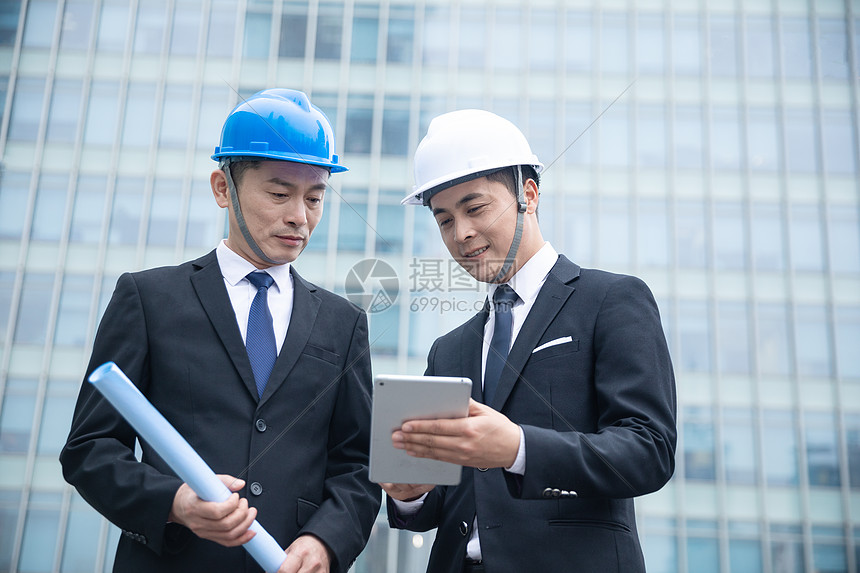safetyhat: (61, 65, 372, 569), (395, 71, 672, 555)
